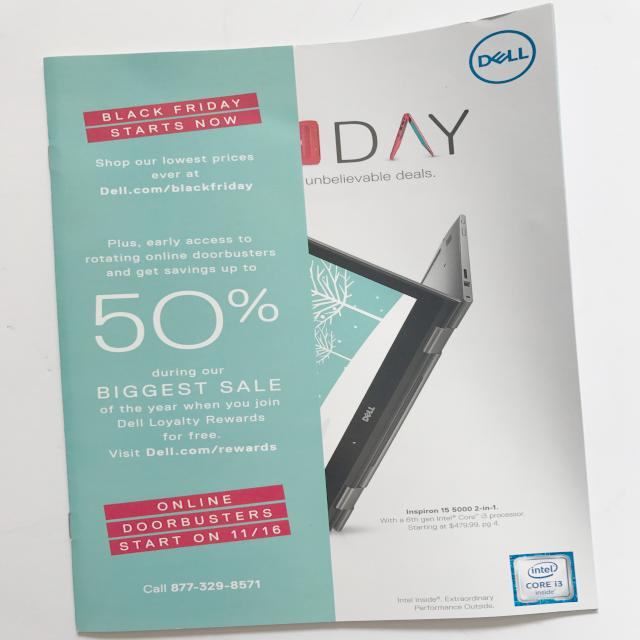Paper: (46, 2, 598, 640)
